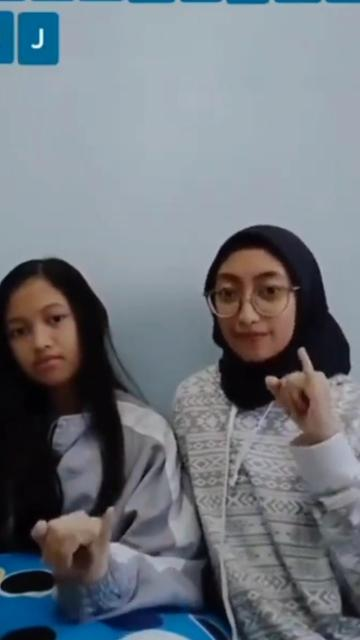I: (30, 502, 126, 582), (256, 348, 330, 438)
